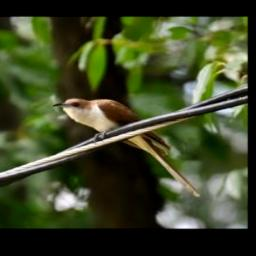Cuckoo: (51, 96, 202, 199)
